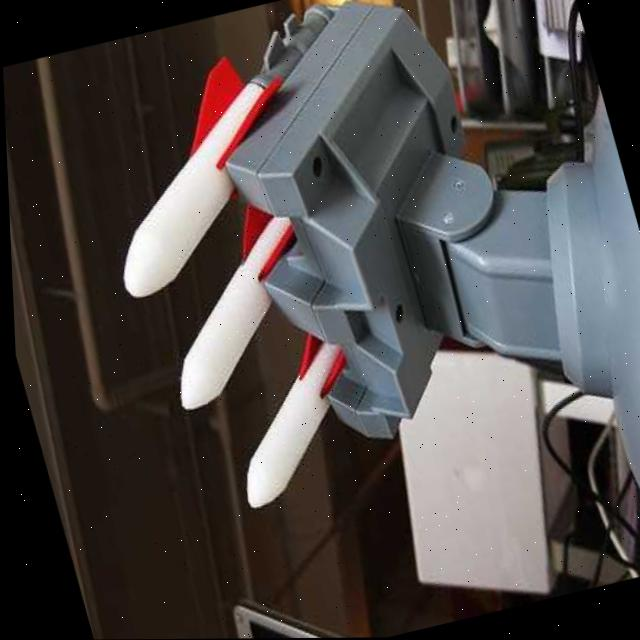missile: (63, 29, 331, 308), (129, 210, 334, 420), (195, 319, 379, 512)
